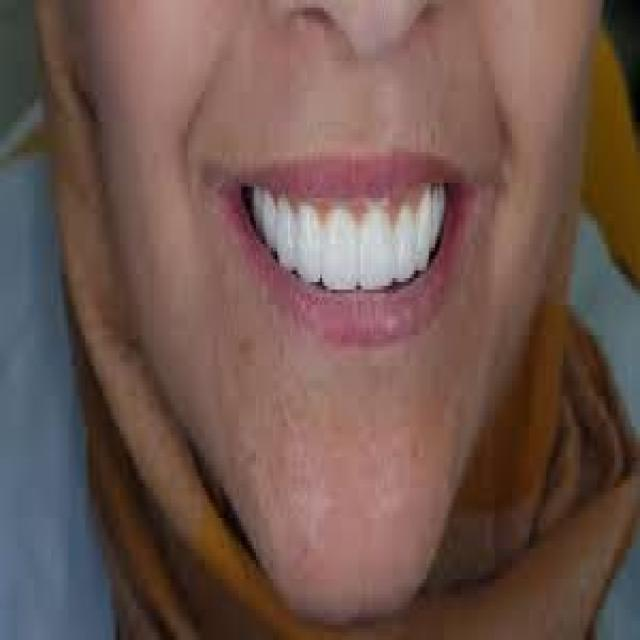tooth: (356, 206, 388, 286), (318, 217, 356, 282), (392, 206, 414, 274), (250, 183, 275, 236), (276, 194, 294, 256), (429, 186, 448, 244), (412, 190, 426, 266), (299, 217, 318, 271)
